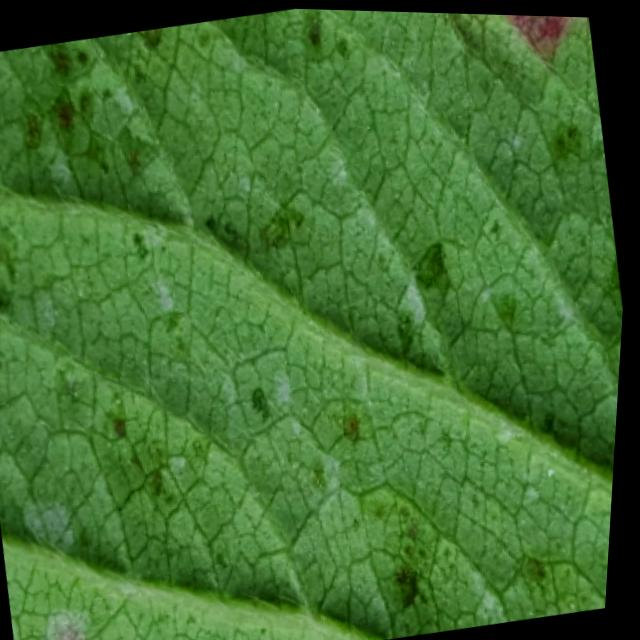Angular Leafspot: (0, 7, 626, 640)
